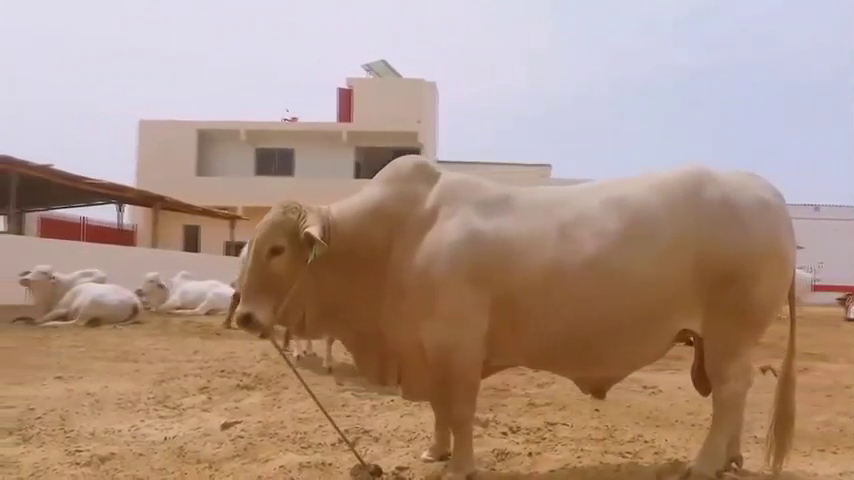bo: (235, 155, 811, 476), (39, 275, 141, 337), (15, 247, 101, 308), (157, 265, 240, 327), (134, 259, 167, 310)
